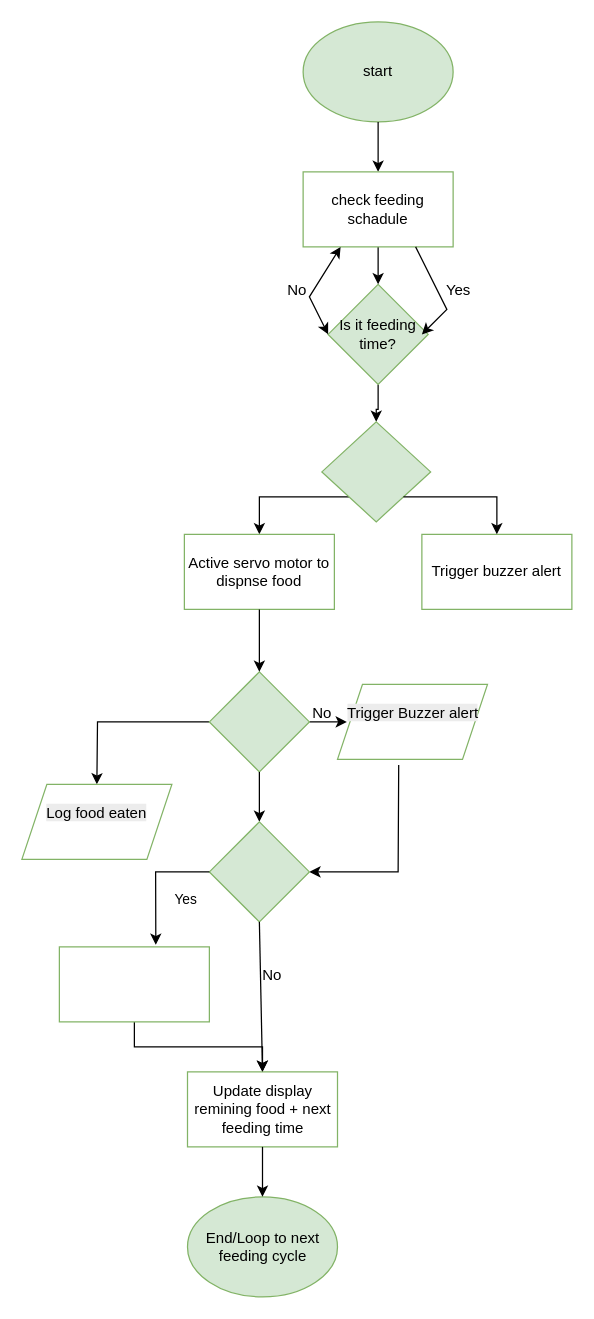
The diagram is 594 pixels wide and 1319 high, and some of its shapes have lost their labels. The box of each missing label's shape, as (x1, y1, x2, y2) in pixels:
check storage sensor(food avalibal?): (321, 421, 431, 522)
Dispense extra food: (58, 946, 209, 1022)
has pet eatesn? 10min: (208, 671, 309, 772)
Manual feed button pressesd?: (208, 821, 309, 922)
